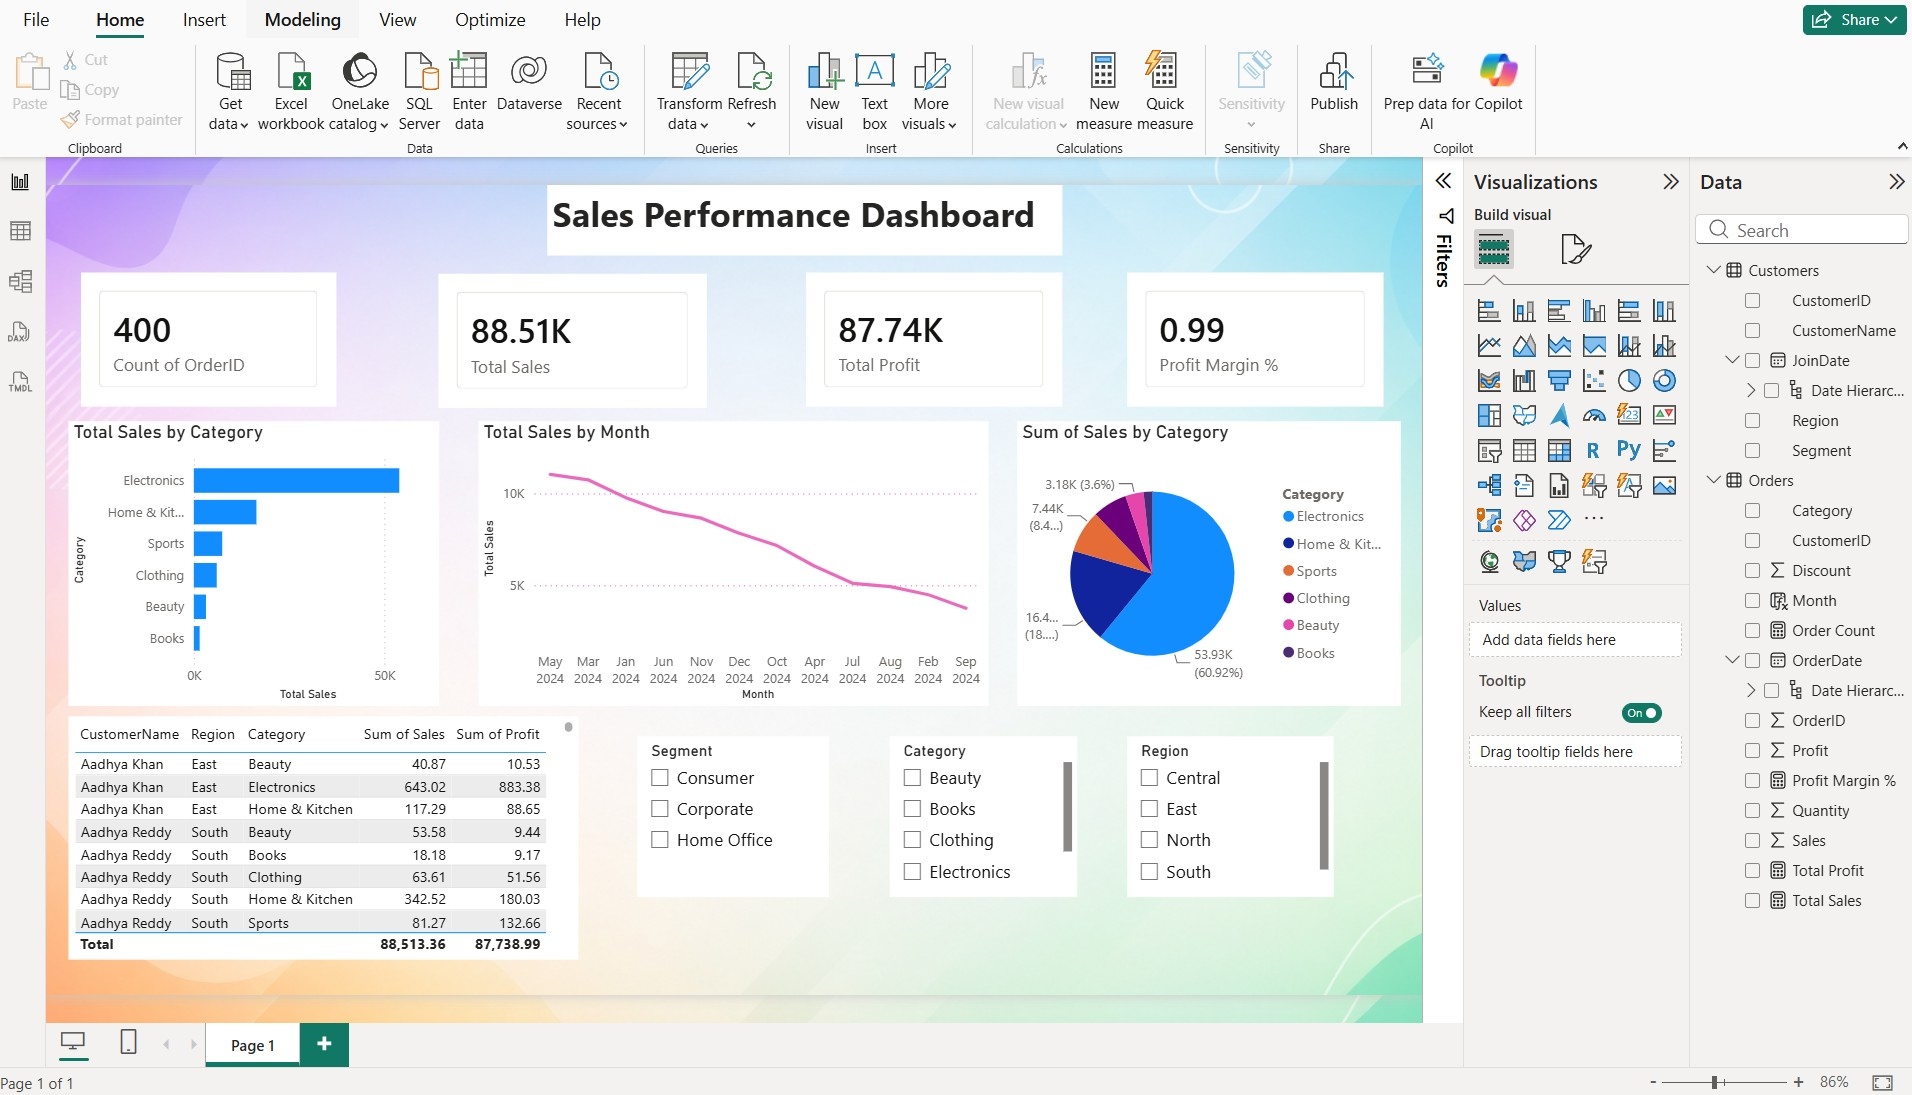

The dashboard page shown, as its layout file describes it:
{"tool":"powerbi","page":{"name":"Page 1","canvas":[1280,754],"ordinal":0},"visuals":[{"type":"cardVisual","fields":{"Data":["Orders.Total Sales"]},"box":[365,82.3,249.7,124.9],"z":0},{"type":"clusteredBarChart","fields":{"Category":["Orders.Category"],"Y":["Orders.Total Sales"]},"box":[20.6,219.6,344.4,264.8],"z":1000},{"type":"lineChart","fields":{"Category":["Orders.Month"],"Y":["Orders.Total Sales"]},"box":[402.1,219.6,474.8,264.8],"z":2000},{"type":"cardVisual","fields":{"Data":["Orders.Total Profit"]},"box":[706.7,81,238.8,124.9],"z":3000},{"type":"cardVisual","fields":{"Data":["Orders.Profit Margin %"]},"box":[1005.8,81,238.8,124.9],"z":4000},{"type":"pieChart","fields":{"Category":["Orders.Category"],"Y":["Sum(Orders.Sales)"]},"box":[902.9,219.6,356.8,264.8],"z":5000},{"type":"slicer","fields":{"Values":["Customers.Region"]},"box":[1016.3,512.8,191.9,150],"z":6000},{"type":"slicer","fields":{"Values":["Orders.Category"]},"box":[784.9,513.2,174.3,149.6],"z":7000},{"type":"slicer","fields":{"Values":["Customers.Segment"]},"box":[550.3,513.2,178.4,149.6],"z":8000},{"type":"tableEx","fields":{"Values":["Customers.CustomerName","Customers.Region","Orders.Category","Sum(Orders.Sales)","Sum(Orders.Profit)"]},"box":[20.6,494,474.8,226.4],"z":9000},{"type":"textbox","box":[466.6,0,478.9,65.9],"z":10000},{"type":"cardVisual","fields":{"Data":["CountNonNull(Orders.OrderID)"]},"box":[32.9,81,237.4,124.9],"z":11000}]}

Visuals, with their boxes on the page's 1280x754 design canvas (x1, y1, x2, y2). These are canvas units, not pixel positions in the 1912x1095 screenshot, which may show the page scaled, cropped or inside an application window:
cardVisual - Orders.Total Sales: pyautogui.locateOnScreen(365, 82, 615, 207)
clusteredBarChart - Orders.Category x Orders.Total Sales: pyautogui.locateOnScreen(21, 220, 365, 484)
lineChart - Orders.Month x Orders.Total Sales: pyautogui.locateOnScreen(402, 220, 877, 484)
cardVisual - Orders.Total Profit: pyautogui.locateOnScreen(707, 81, 946, 206)
cardVisual - Orders.Profit Margin %: pyautogui.locateOnScreen(1006, 81, 1245, 206)
pieChart - Orders.Category x Sum(Orders.Sales): pyautogui.locateOnScreen(903, 220, 1260, 484)
slicer - Customers.Region: pyautogui.locateOnScreen(1016, 513, 1208, 663)
slicer - Orders.Category: pyautogui.locateOnScreen(785, 513, 959, 663)
slicer - Customers.Segment: pyautogui.locateOnScreen(550, 513, 729, 663)
tableEx - Customers.CustomerName x Customers.Region: pyautogui.locateOnScreen(21, 494, 495, 720)
textbox: pyautogui.locateOnScreen(467, 0, 946, 66)
cardVisual - CountNonNull(Orders.OrderID): pyautogui.locateOnScreen(33, 81, 270, 206)
